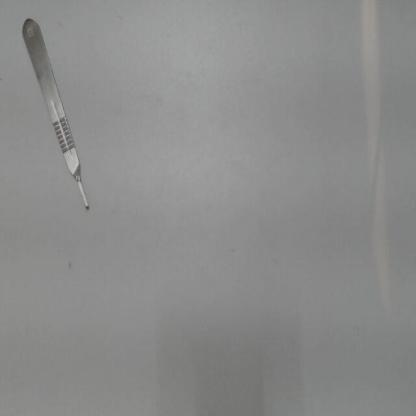No.3 BP Handle: (13, 4, 99, 220)
